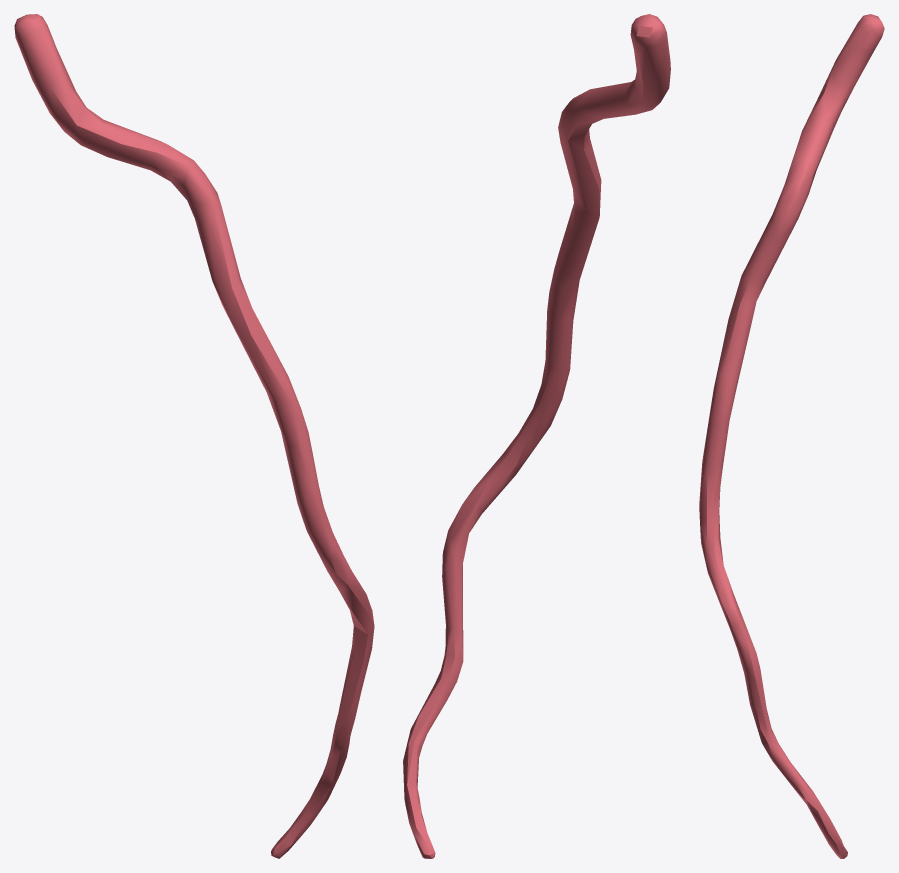
File: fma66403_fj2659.glb
3 views of the same model, side by side, from view 1: azimuth 30°, elevation 25°; view 2: azimuth 150°, elevation 25°; view 3: azimuth 270°, elevation 25° (orthographic). The views are drawn at different scales.
Visible parts, largest first — view 1: FMA66403_FJ2659; view 2: FMA66403_FJ2659; view 3: FMA66403_FJ2659.
Boxes of the visible parts, x1,y1,x2,y2 form: FMA66403_FJ2659: [14, 14, 374, 858]; FMA66403_FJ2659: [403, 14, 670, 858]; FMA66403_FJ2659: [699, 14, 884, 858].
Size of the model in its own units: 0.0146 by 0.0432 by 0.00971.
